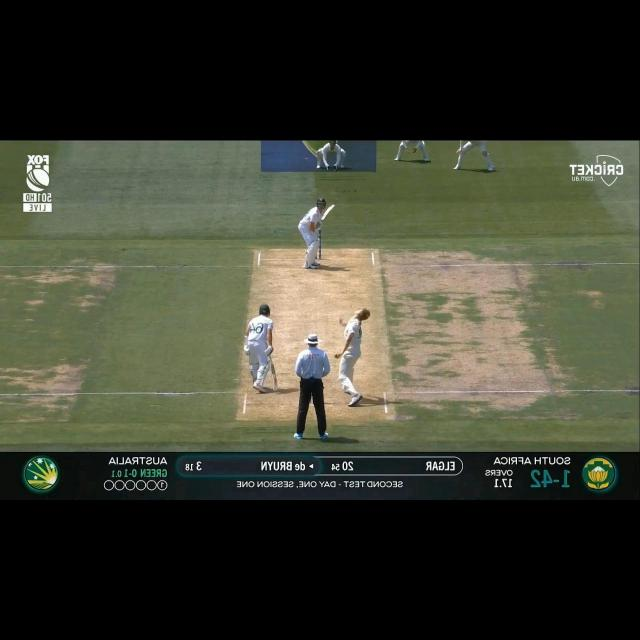bat: (270, 363, 279, 391), (320, 203, 334, 220)
toe: (273, 384, 279, 392), (330, 204, 336, 207)
